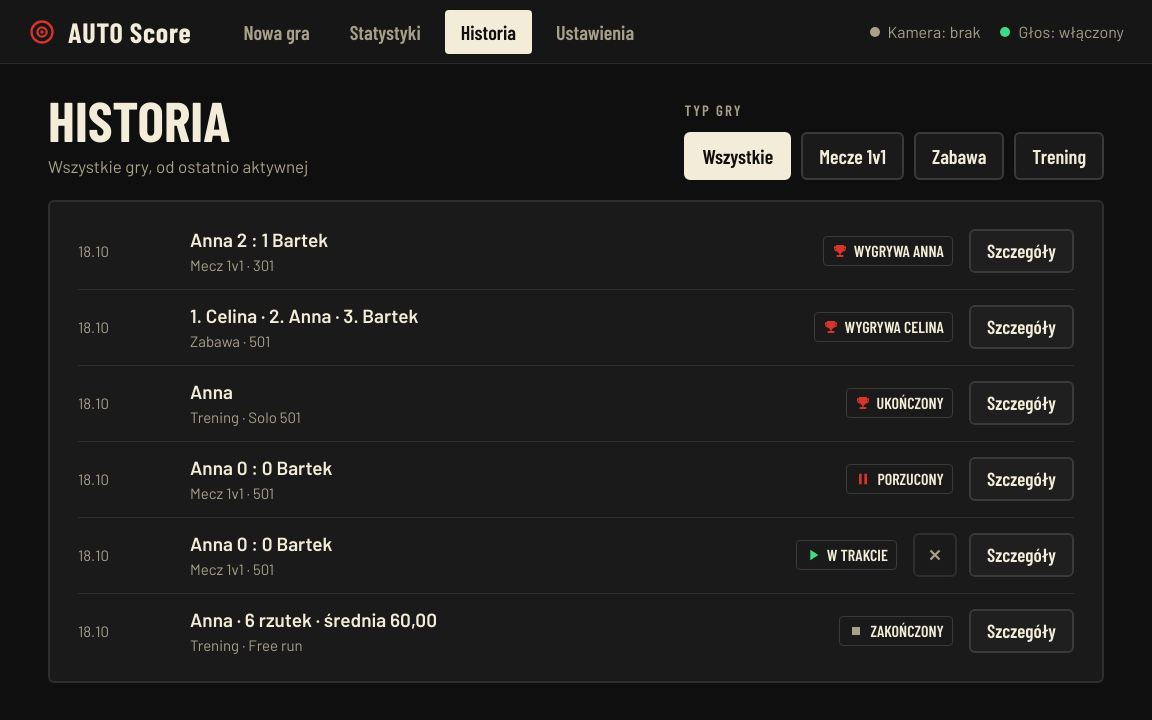
HistoryScreen › clears the abandon error when the filter changes
Expected: the text "Anna 2 : 1 Bartek" is shown, [190,228,328,250]
Click the button named "Porzuć:" at (935, 555), box [913,533,957,577]
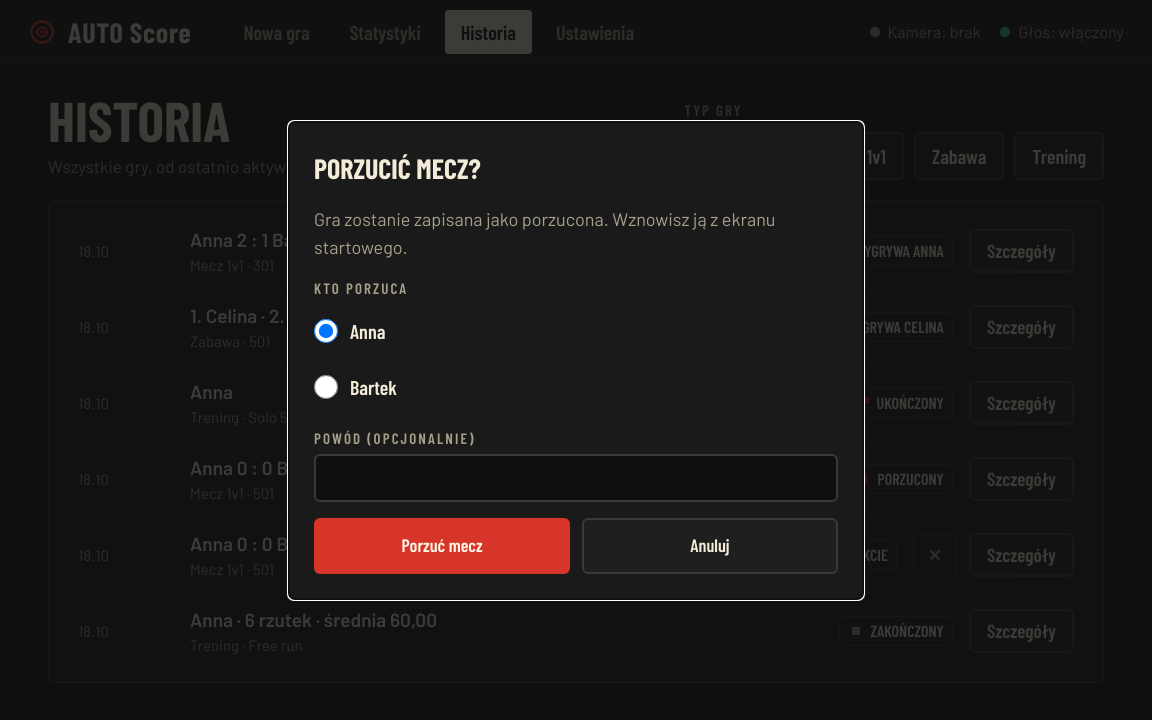
Click the button "Porzuć mecz" at (442, 546), box [314,518,570,574]
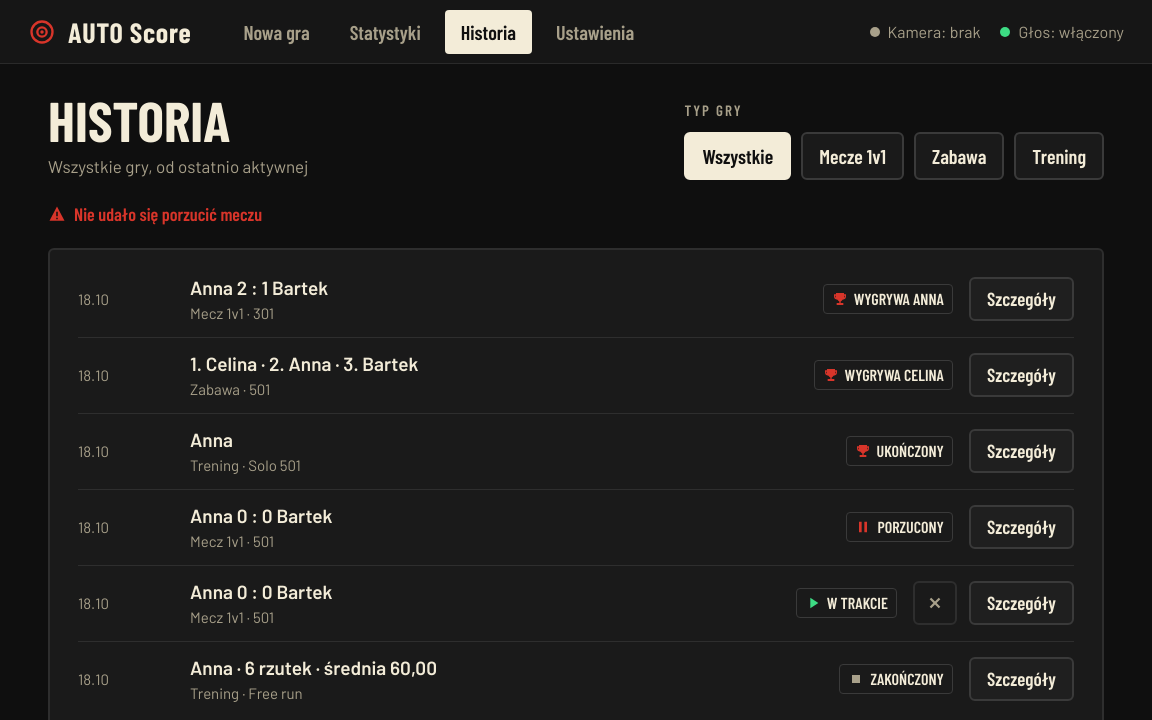
Expected: the text "Nie udało się porzucić meczu" is shown, [48,202,262,224]
Click the button "Mecze 1v1" at (853, 156), box [801,132,904,180]
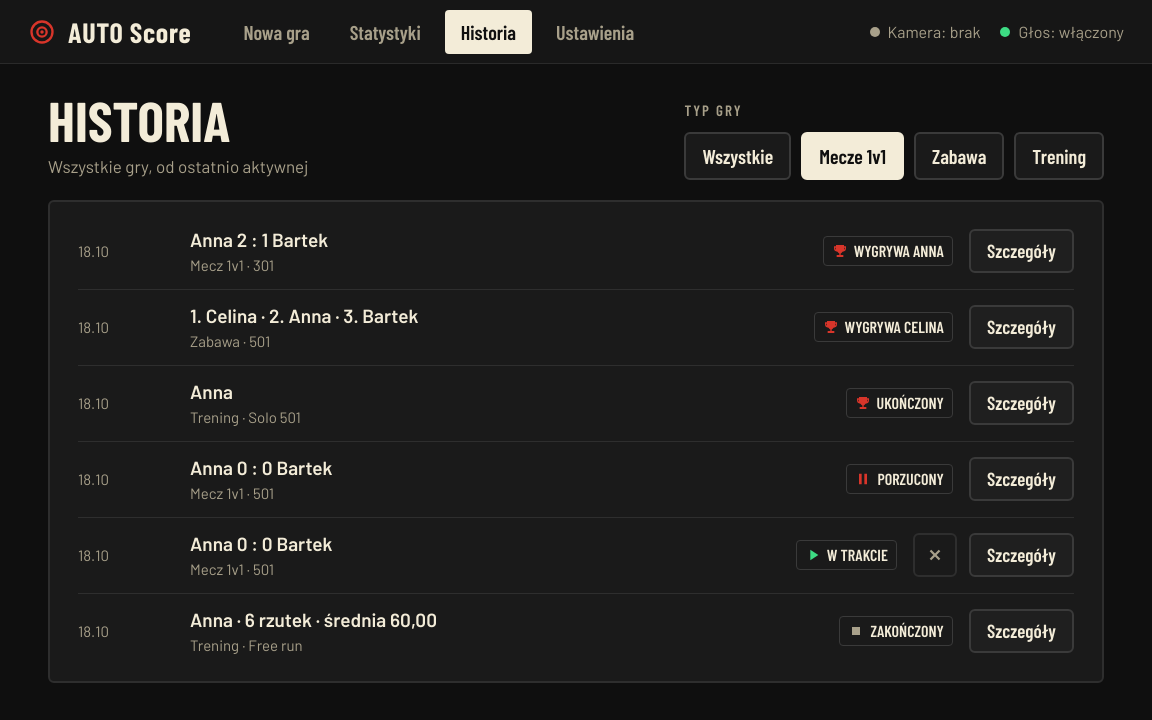
Expected: the text "Nie udało się porzucić meczu" is gone
